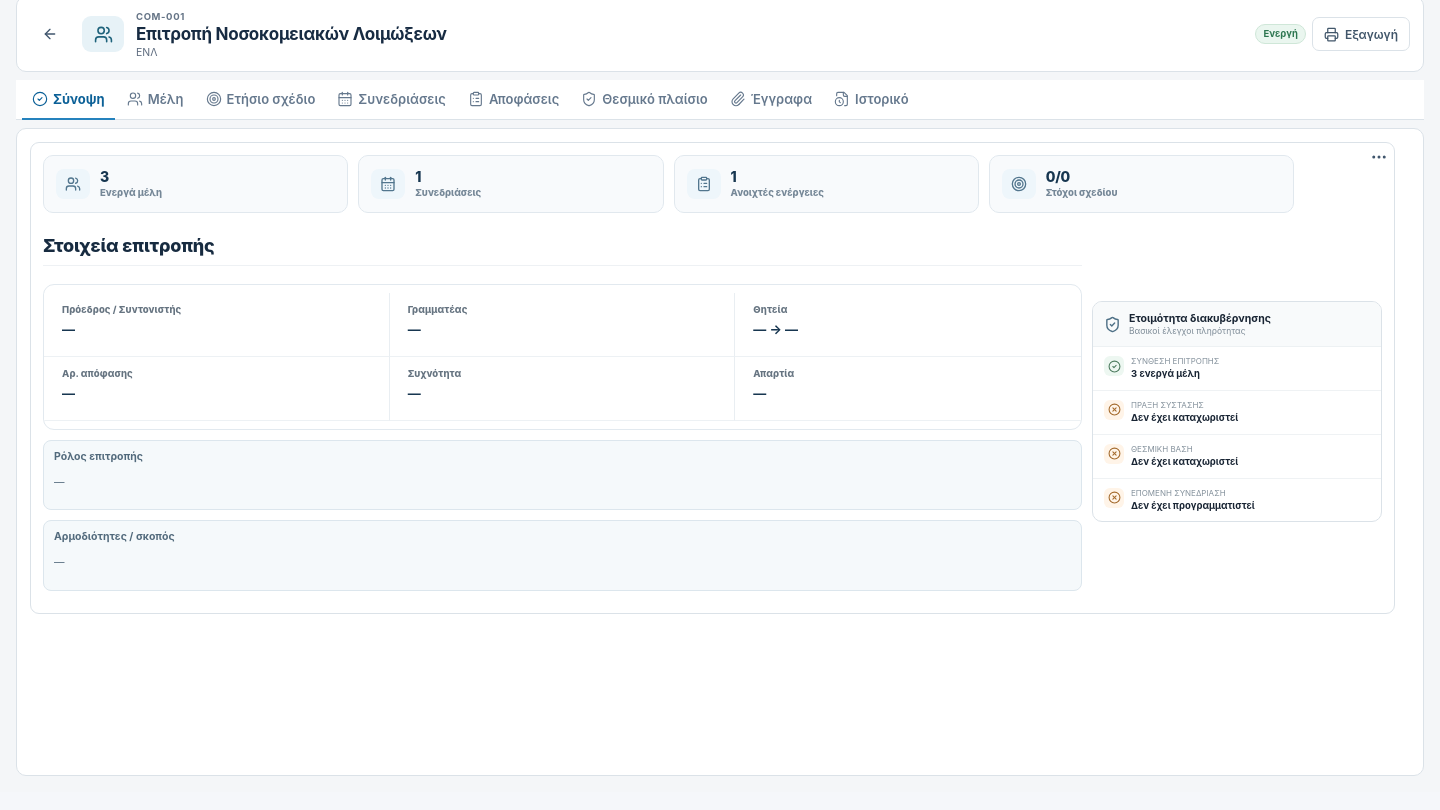
Test: committee record: meetings › locks the minutes of a cancelled meeting
Click the tab "Συνεδριάσεις". click: (392, 100)
box: [327,80,456,120]
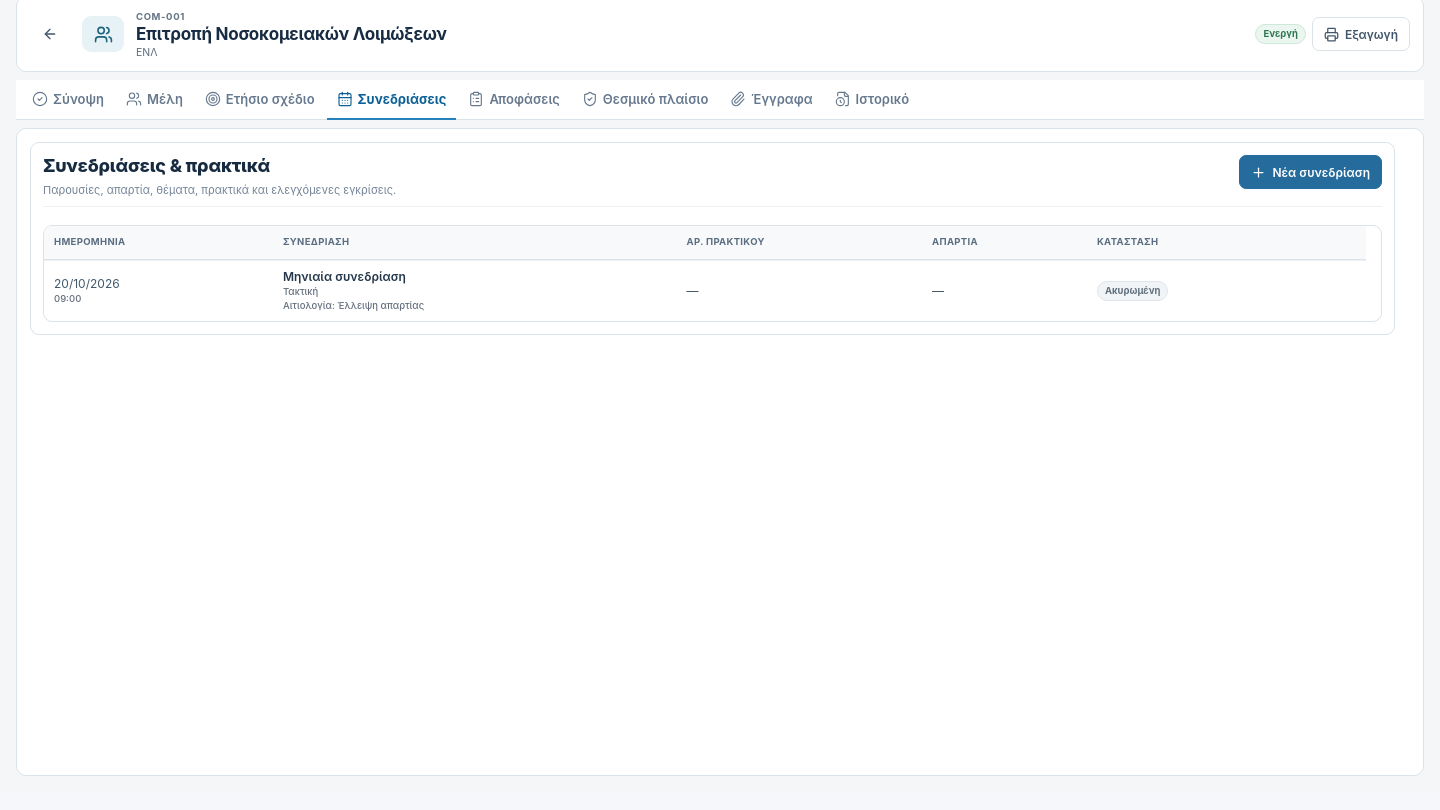
Click the text "Μηνιαία συνεδρίαση". click: (344, 276)
box: [283,268,406,284]
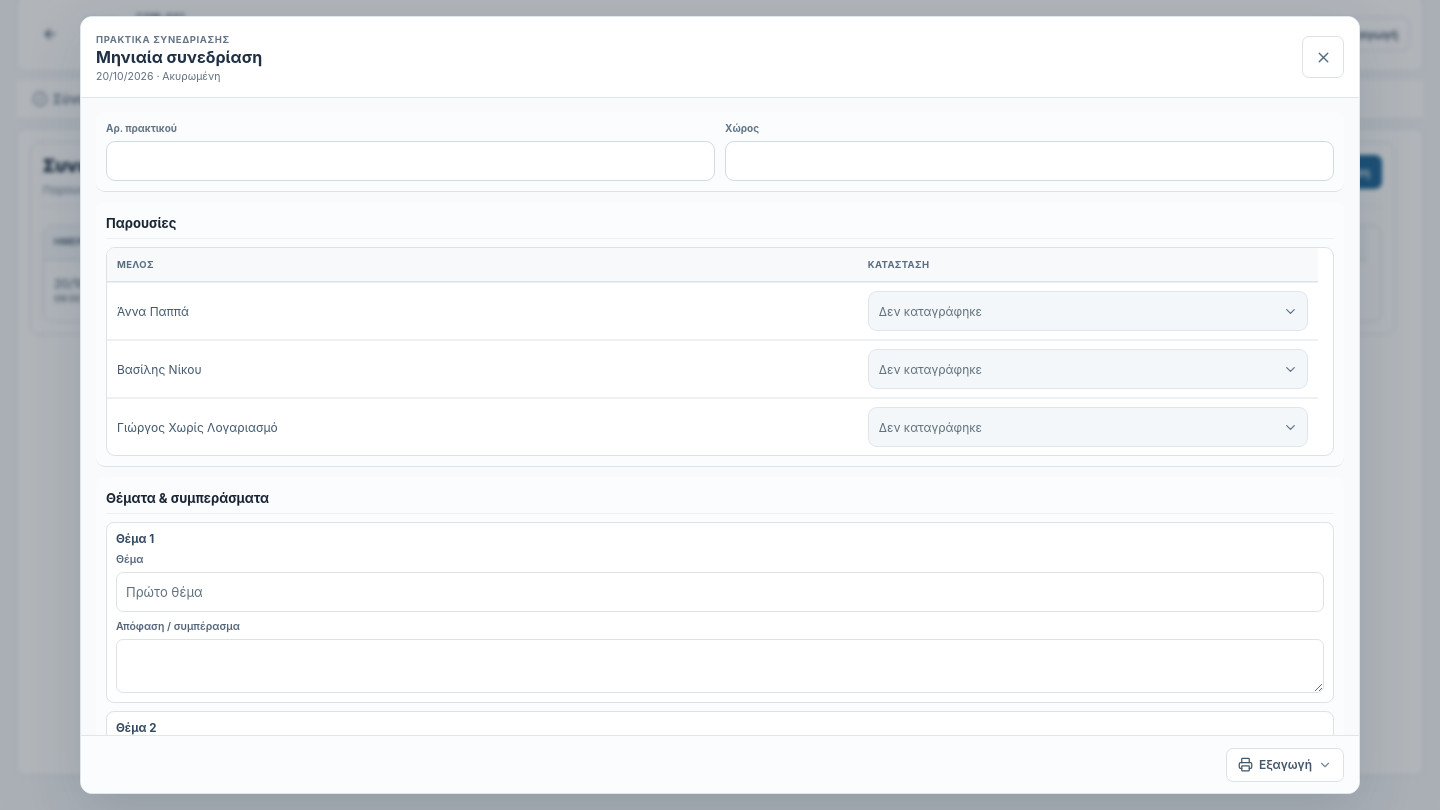
Now the field showing "Πρώτο θέμα" is disabled, box [116,572,1324,612]
